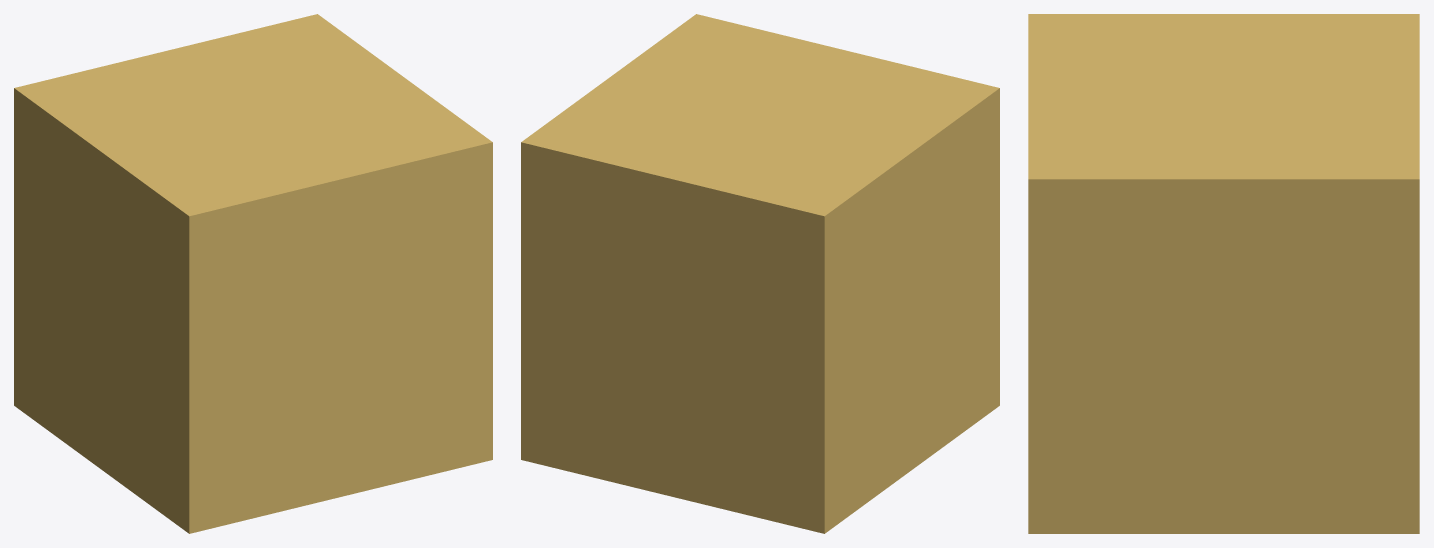
Rendered from floor3.gltf.
3 views of the same model, side by side, from view 1: azimuth 30°, elevation 25°; view 2: azimuth 150°, elevation 25°; view 3: azimuth 270°, elevation 25° (orthographic). The views are drawn at different scales.
Bounding box in the file's own units: 10 × 10 × 10.
Materials: 1 (1 with a texture image).
